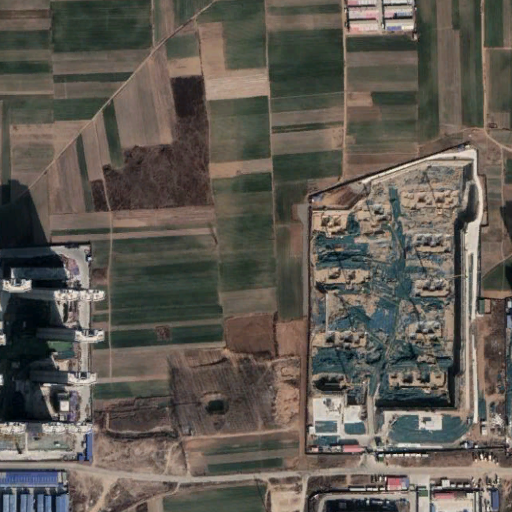cw: (307, 149, 471, 445)
